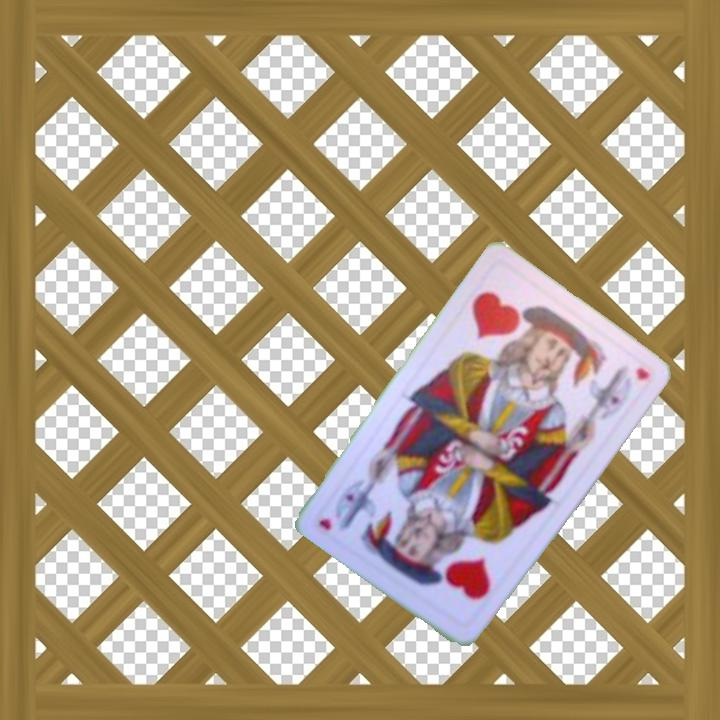h_j.png: (387, 506, 516, 632), (448, 260, 577, 386)
